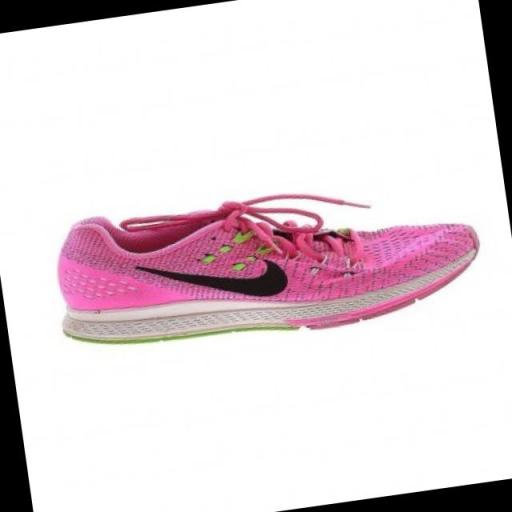Nike: (128, 242, 297, 320)
